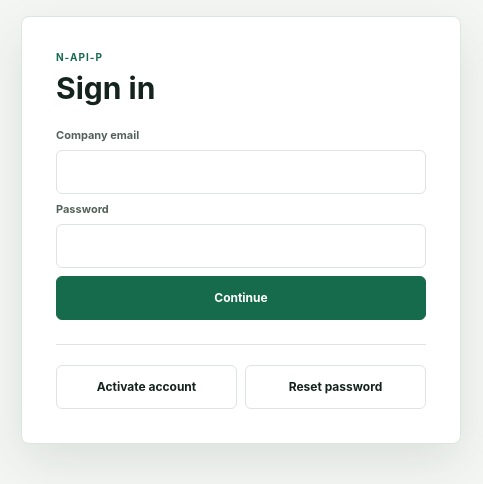
disables the sign-in form while authentication is pending
Check: the heading "Sign in" is shown, box [56,70,155,106]
In the field labelled "Company email": (241, 172) [56,150,426,194], type "employee@example.internal"
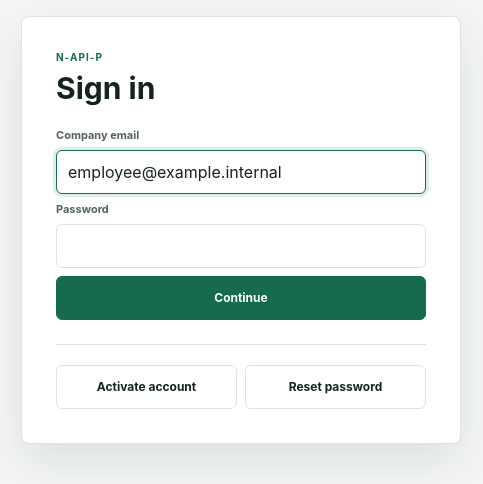
In the password field labelled "Password": (241, 246) [56,224,426,268], type "synthetic-password"
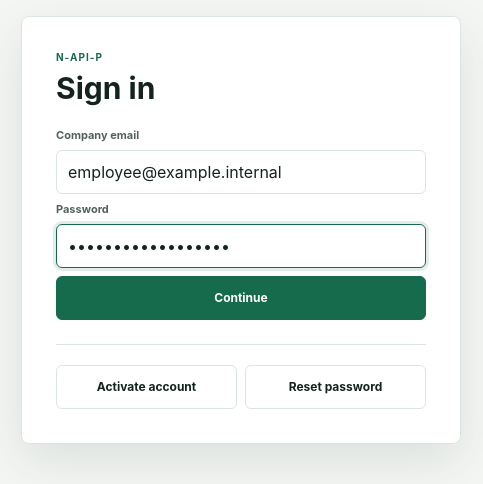
Click the button "Continue": (241, 298) [56,276,426,320]
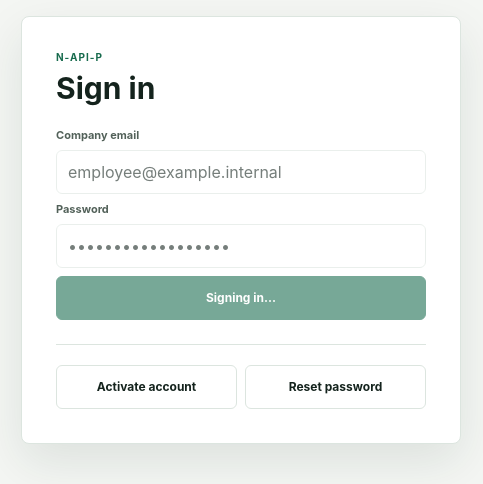
Check: the button "Signing in…" is disabled, box [56,276,426,320]
Check: the field labelled "Company email" is disabled, box [56,150,426,194]
